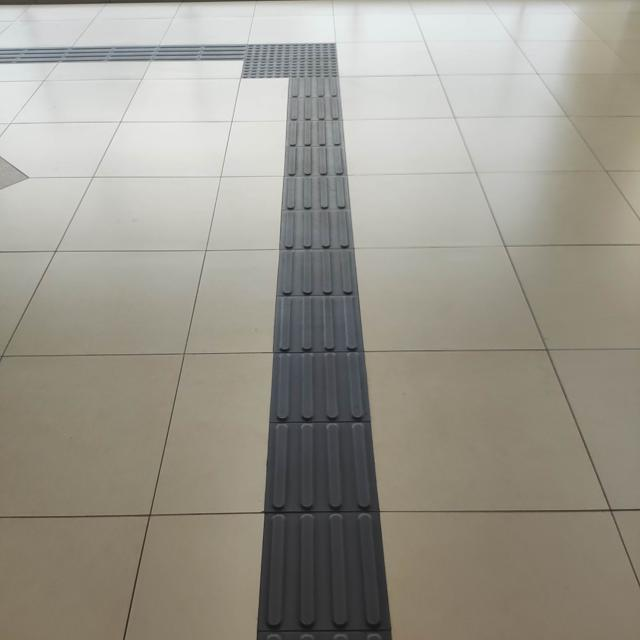kiri: (172, 22, 358, 101)
